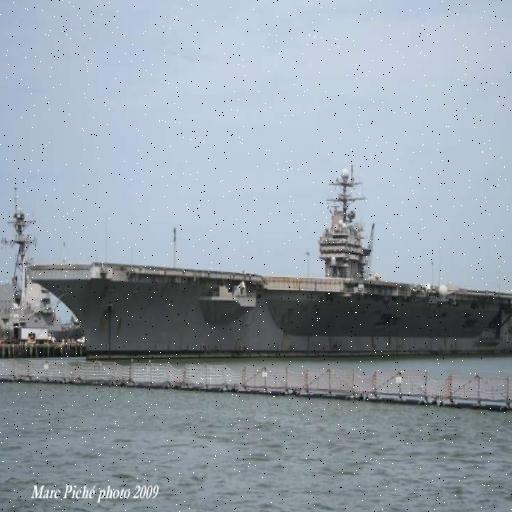Portanaves: (22, 154, 512, 365)
